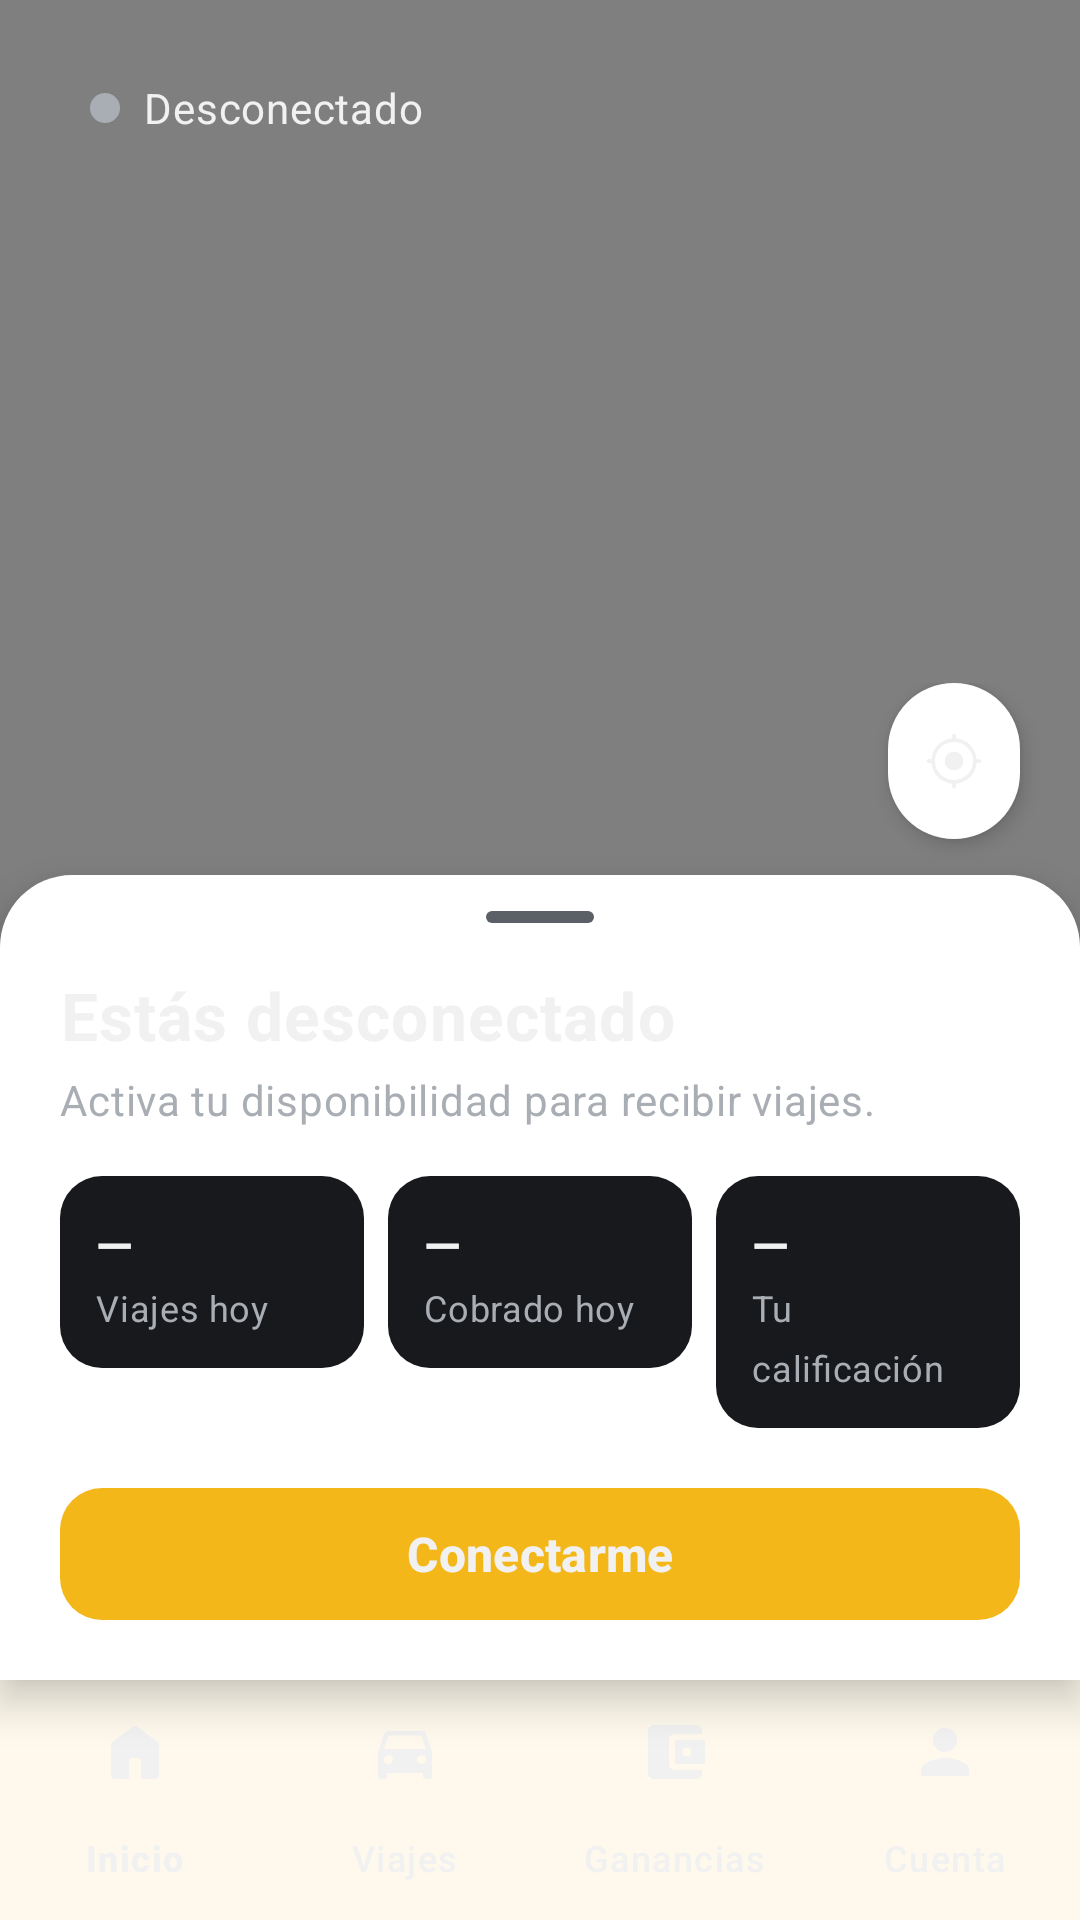

Named icons in this screenshot (1080 × 1920) and their centers, (x,y):
Mi ubicación: (954,761)
